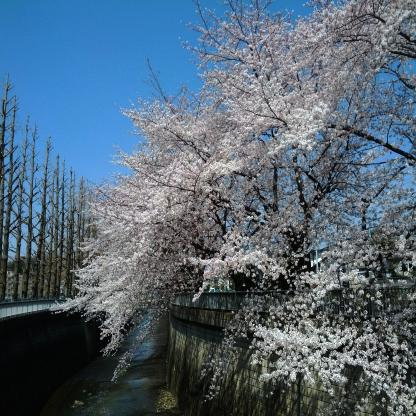Someiyoshino: (60, 1, 416, 414)
